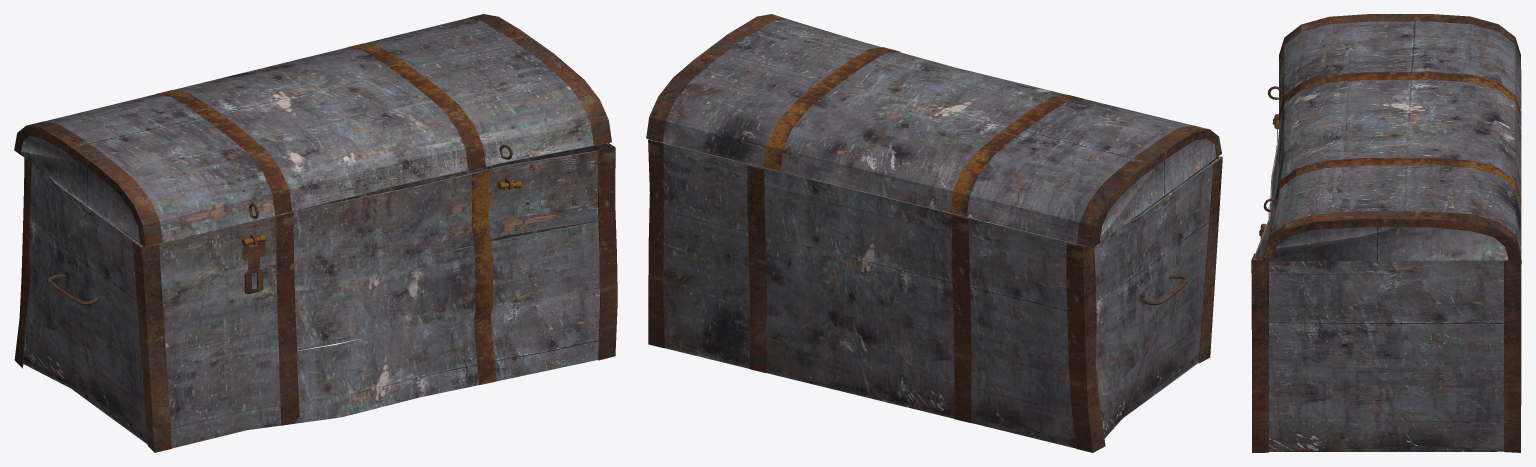
The model's file is chest_old.FBX.
3 views of the same model, side by side, from view 1: azimuth 30°, elevation 25°; view 2: azimuth 150°, elevation 25°; view 3: azimuth 270°, elevation 25° (orthographic). The views are drawn at different scales.
Parts seen in each view (by area): view 1: chest_old; view 2: chest_old; view 3: chest_old.
Part boxes in pixels (x1,y1,x2,y2): chest_old: (14,14,617,452); chest_old: (646,14,1222,452); chest_old: (1251,14,1521,452).
Size of the model in its own units: 278 by 143 by 148.
